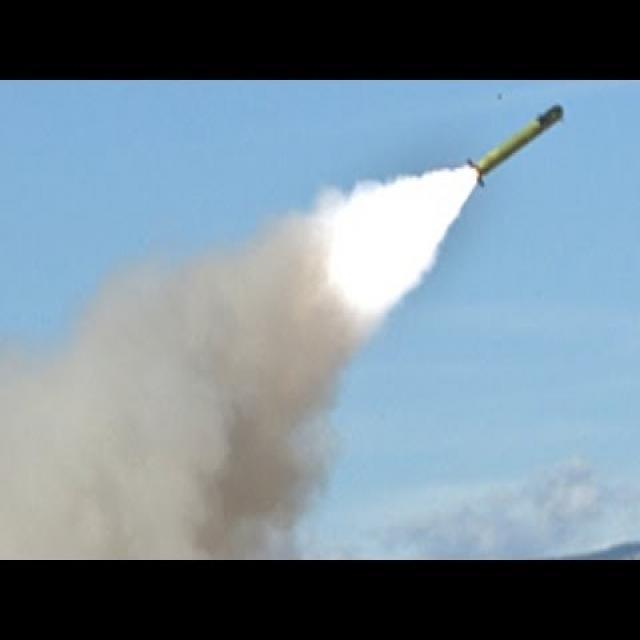Missile: (454, 94, 572, 187)
